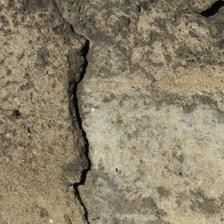Crack: (26, 2, 72, 221)
